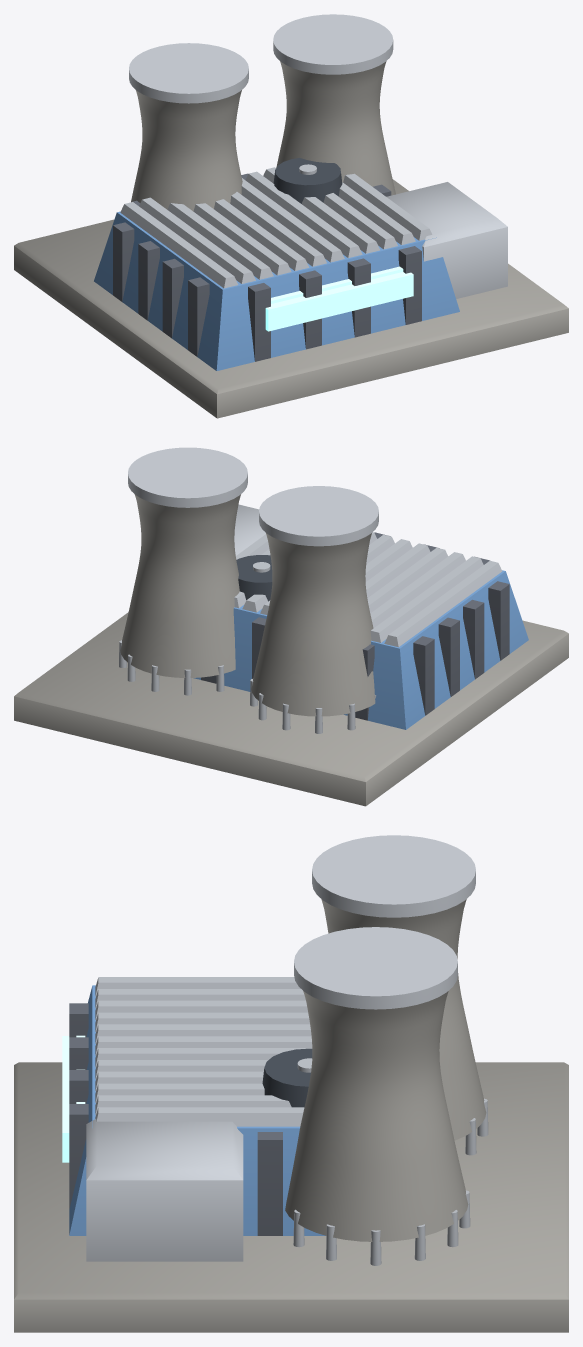
File: gapowr.glb
3 views of the same model, one above another, from view 1: azimuth 30°, elevation 25°; view 2: azimuth 150°, elevation 25°; view 3: azimuth 270°, elevation 25° (orthographic). The views are drawn at different scales.
Parts seen in each view (by area): view 1: Hull; view 2: Hull; view 3: Hull.
Boxes of the visible parts, bbox=[...] form: Hull: bbox=[14, 14, 568, 418]; Hull: bbox=[14, 447, 568, 806]; Hull: bbox=[14, 835, 568, 1332].
Size of the model in its own units: 3.31 by 1.99 by 3.31.
